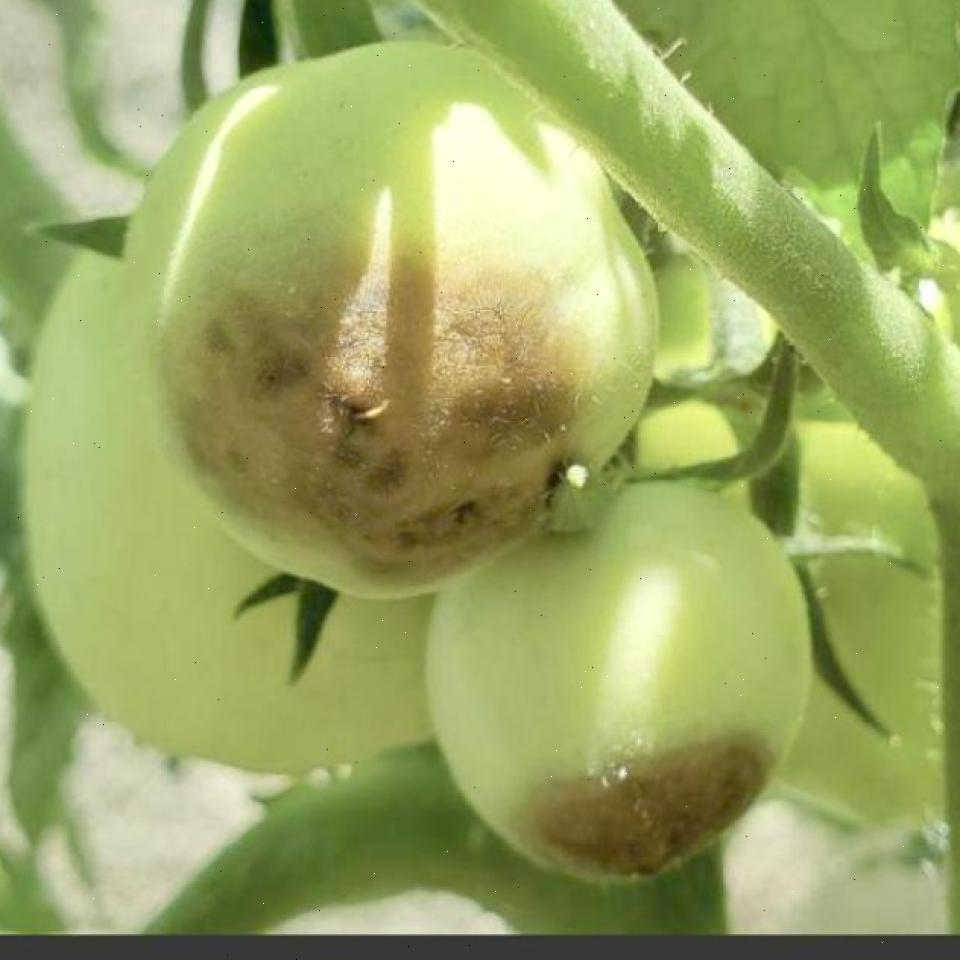Blossom_end_rot: (145, 212, 581, 586), (506, 726, 764, 872)
